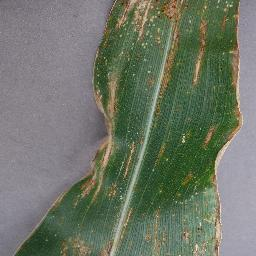Gray_Leaf_Spot: (203, 121, 247, 256), (97, 0, 190, 60), (79, 60, 121, 189), (141, 209, 203, 256), (225, 0, 244, 122), (147, 60, 175, 119), (192, 0, 211, 85), (122, 134, 146, 183), (57, 238, 122, 256), (117, 204, 136, 238), (56, 190, 117, 200), (183, 167, 197, 188), (156, 139, 165, 168), (45, 201, 57, 215), (181, 129, 189, 145)
